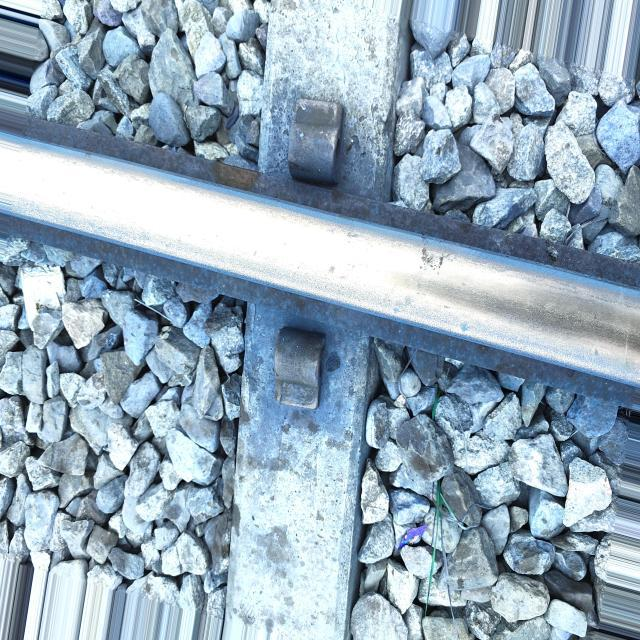Missing Fastener: (267, 333, 340, 412), (286, 86, 341, 181)
